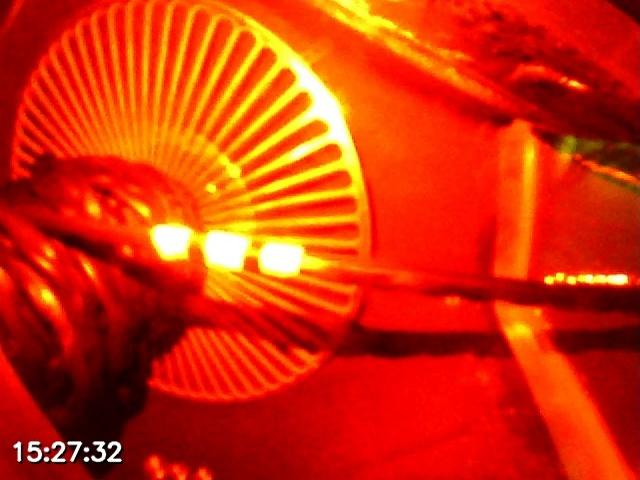white-dots: (149, 223, 302, 279)
